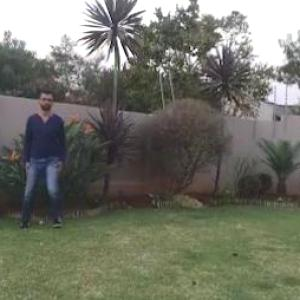follow: (25, 86, 66, 227)
